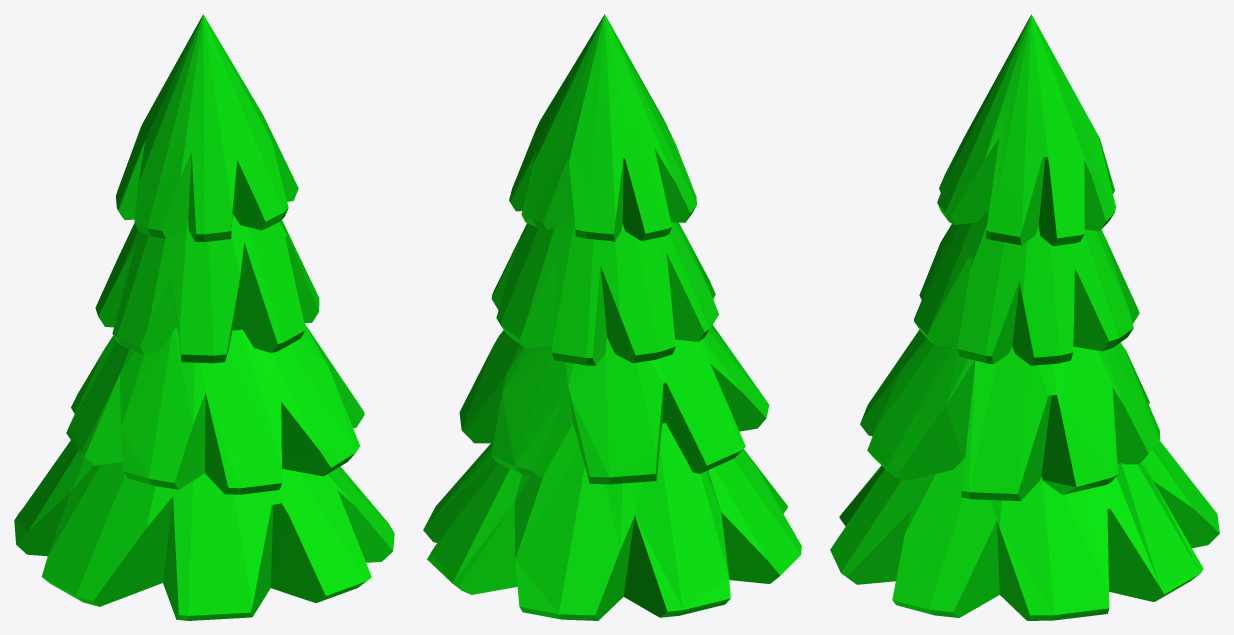
The model's file is Tree_03.fbx.
The picture shows the model from 3 angles, left to right: view 1: azimuth 30°, elevation 25°; view 2: azimuth 150°, elevation 25°; view 3: azimuth 270°, elevation 25°; orthographic projection.
Visible parts, largest first — view 1: PineTree; view 2: PineTree; view 3: PineTree.
Part boxes in pixels (x1,y1,x2,y2): PineTree: [14, 14, 394, 620]; PineTree: [423, 14, 801, 620]; PineTree: [830, 14, 1219, 620].
Size of the model in its own units: 285 by 433 by 277.
